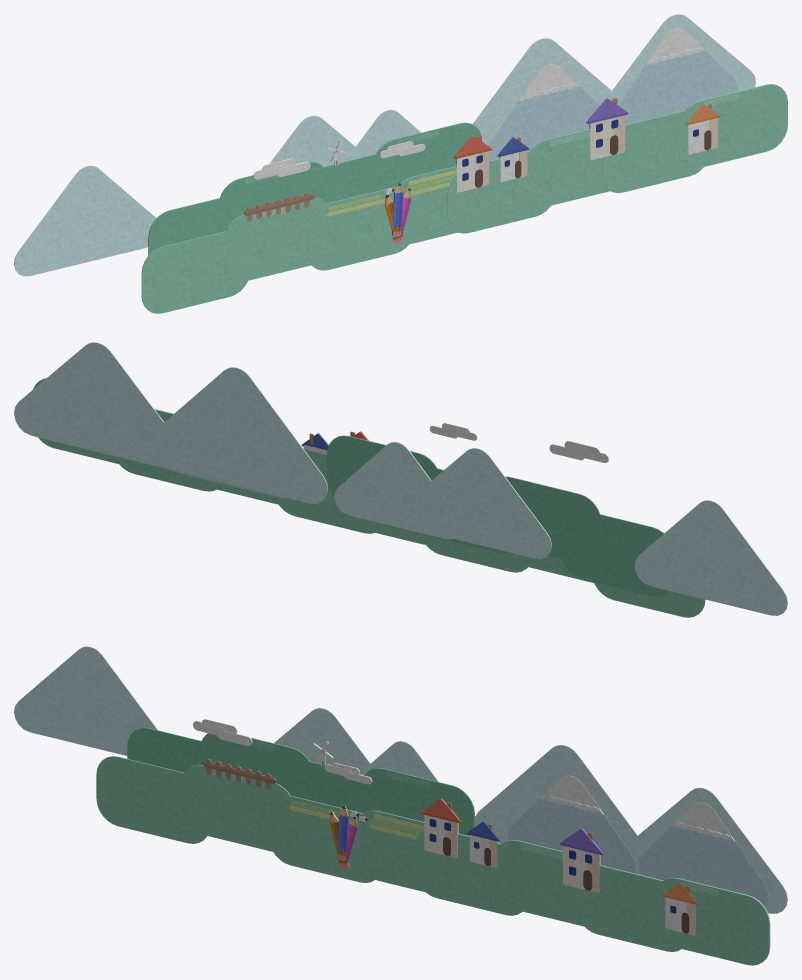
Rendered from decor_level3.glb.
3 renders of one model, top to bottom at view 1: azimuth 30°, elevation 25°; view 2: azimuth 150°, elevation 25°; view 3: azimuth 330°, elevation 25°, orthographic. The views are drawn at different scales.
Parts seen in each view (by area): view 1: L3_laag8_heuvelsvoor_03.003, L3_laag8_heuvelsvoor_01.003, L3_laag10_bergen_03.003, L3_laag9_heuvelsachter_01.003, L3_laag10_berg_01.003, L3_laag8_dorp_04.003, L3_laag10_bergen_02.003, L3_laag8_weiland_02.003, L3_laag7_wolken_01.003, L3_laag7_potloden_02.003; view 2: L3_laag10_bergen_03.003, L3_laag10_bergen_02.003, L3_laag9_heuvelsachter_01.003, L3_laag10_berg_01.003, L3_laag8_heuvelsvoor_01.003, L3_laag8_heuvelsvoor_03.003, L3_laag7_wolken_01.003, L3_laag8_dorp_04.003; view 3: L3_laag8_heuvelsvoor_03.003, L3_laag10_bergen_03.003, L3_laag8_heuvelsvoor_01.003, L3_laag9_heuvelsachter_01.003, L3_laag10_berg_01.003, L3_laag8_dorp_04.003, L3_laag10_bergen_02.003, L3_laag8_weiland_02.003, L3_laag7_wolken_01.003, L3_laag7_potloden_02.003.
Boxes of the visible parts, left/top/right/bottom form: L3_laag8_heuvelsvoor_03.003: left=447, top=84, right=787, bottom=233; L3_laag8_heuvelsvoor_01.003: left=141, top=166, right=457, bottom=313; L3_laag10_bergen_03.003: left=472, top=14, right=755, bottom=160; L3_laag9_heuvelsachter_01.003: left=148, top=122, right=481, bottom=255; L3_laag10_berg_01.003: left=14, top=165, right=156, bottom=276; L3_laag8_dorp_04.003: left=453, top=98, right=720, bottom=192; L3_laag10_bergen_02.003: left=269, top=109, right=420, bottom=166; L3_laag8_weiland_02.003: left=244, top=170, right=456, bottom=221; L3_laag7_wolken_01.003: left=253, top=141, right=425, bottom=179; L3_laag7_potloden_02.003: left=384, top=182, right=411, bottom=244; L3_laag10_bergen_03.003: left=14, top=342, right=327, bottom=503; L3_laag10_bergen_02.003: left=334, top=442, right=551, bottom=558; L3_laag9_heuvelsachter_01.003: left=327, top=435, right=669, bottom=597; L3_laag10_berg_01.003: left=634, top=500, right=787, bottom=615; L3_laag8_heuvelsvoor_01.003: left=331, top=492, right=705, bottom=617; L3_laag8_heuvelsvoor_03.003: left=33, top=378, right=374, bottom=533; L3_laag7_wolken_01.003: left=429, top=423, right=608, bottom=462; L3_laag8_dorp_04.003: left=301, top=431, right=369, bottom=454; L3_laag8_heuvelsvoor_03.003: left=414, top=830, right=770, bottom=965; L3_laag10_bergen_03.003: left=475, top=745, right=787, bottom=913; L3_laag8_heuvelsvoor_01.003: left=96, top=756, right=459, bottom=891; L3_laag9_heuvelsachter_01.003: left=127, top=727, right=474, bottom=835; L3_laag10_berg_01.003: left=14, top=646, right=157, bottom=755; L3_laag8_dorp_04.003: left=421, top=798, right=698, bottom=935; L3_laag10_bergen_02.003: left=274, top=708, right=438, bottom=781; L3_laag8_weiland_02.003: left=203, top=759, right=424, bottom=839; L3_laag7_wolken_01.003: left=193, top=719, right=372, bottom=784; L3_laag7_potloden_02.003: left=329, top=805, right=357, bottom=868.
Size of the model in its own units: 53.43 by 10.78 by 4.33.
50 materials, 50 textured.
